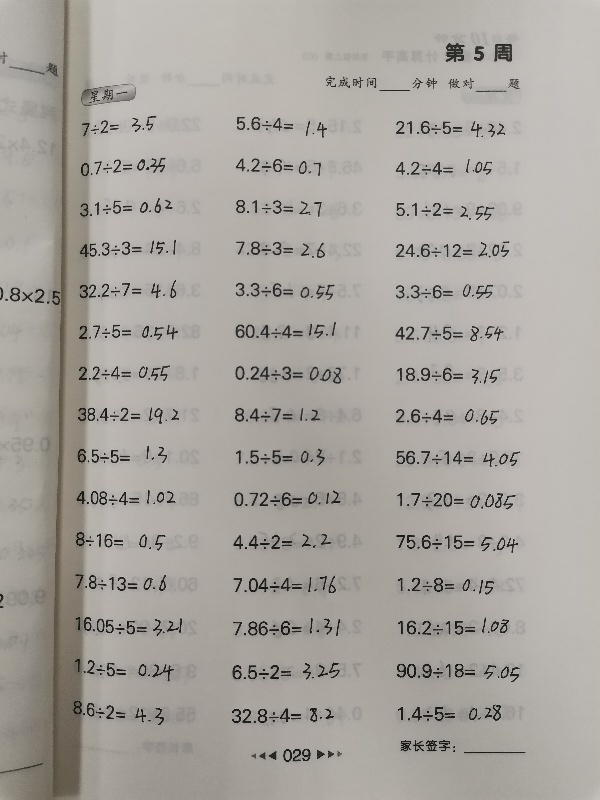equation: (70, 231, 191, 265), (68, 609, 194, 640), (68, 567, 184, 600), (68, 317, 194, 347), (69, 652, 185, 684), (73, 275, 190, 306), (74, 192, 189, 221), (392, 659, 523, 684), (71, 402, 191, 429), (71, 154, 185, 182), (66, 697, 179, 725), (68, 527, 179, 555), (392, 530, 521, 554), (393, 487, 519, 511), (392, 447, 523, 470), (394, 613, 512, 638), (227, 659, 343, 684), (392, 115, 508, 140), (393, 238, 513, 262), (229, 615, 344, 640), (71, 359, 181, 385), (392, 322, 508, 346), (231, 361, 345, 385), (69, 485, 183, 509), (73, 441, 178, 467), (71, 113, 172, 140), (231, 573, 340, 598), (394, 700, 505, 724), (231, 279, 338, 303), (392, 363, 503, 386), (229, 487, 344, 509), (392, 405, 502, 428), (392, 198, 497, 222), (392, 155, 496, 179), (231, 319, 339, 342), (233, 445, 329, 470), (228, 704, 337, 726), (393, 280, 497, 303), (394, 574, 497, 597), (229, 530, 334, 552), (232, 114, 330, 137), (231, 238, 328, 261), (231, 196, 325, 219), (232, 154, 324, 177), (231, 404, 324, 426)
